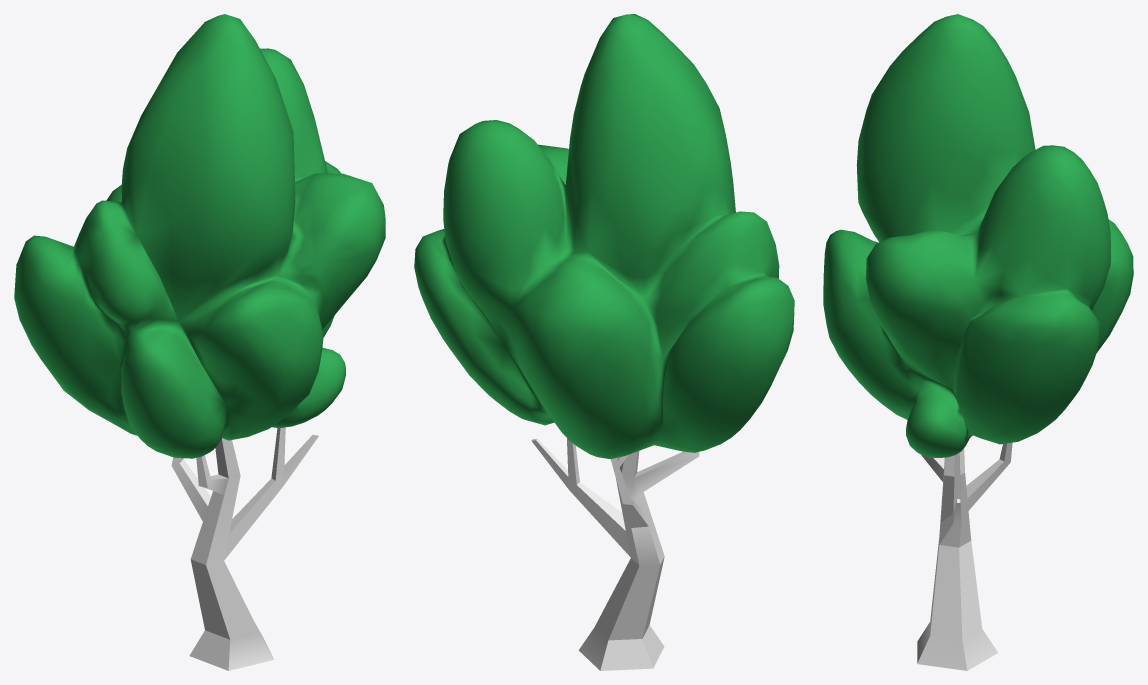
File: Tree_02.fbx
The picture shows the model from 3 angles, left to right: view 1: azimuth 30°, elevation 25°; view 2: azimuth 150°, elevation 25°; view 3: azimuth 270°, elevation 25°; orthographic projection.
Parts seen in each view (by area): view 1: Tree_01; view 2: Tree_01; view 3: Tree_01.
Boxes of the visible parts, x1,y1,x2,y2 form: Tree_01: [14, 14, 385, 670]; Tree_01: [414, 14, 794, 670]; Tree_01: [823, 14, 1133, 670].
Bounding box in the file's own units: 1533 × 2733 × 1208.
